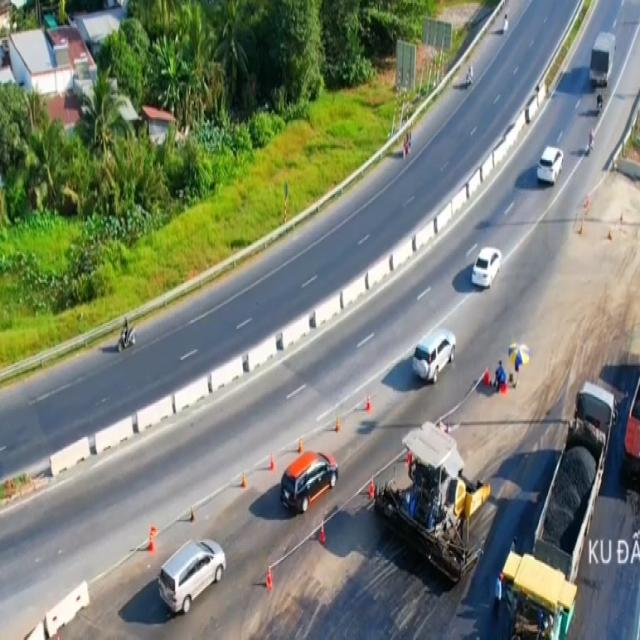car: (157, 534, 228, 618), (279, 444, 340, 514), (413, 327, 459, 382), (473, 246, 505, 289), (535, 145, 564, 189)
motorbike: (117, 320, 134, 354)
truck: (588, 28, 616, 90)
